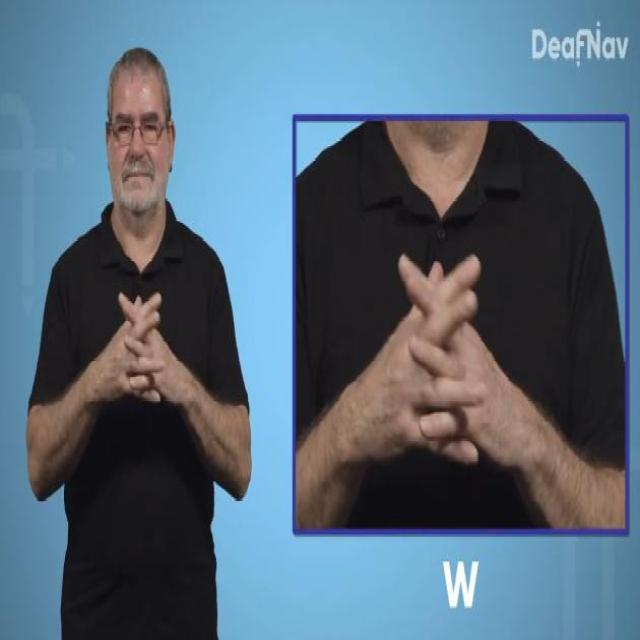W: (384, 243, 496, 484), (100, 287, 182, 413)
